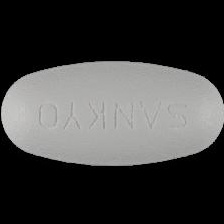65597-104: (0, 0, 224, 224)
